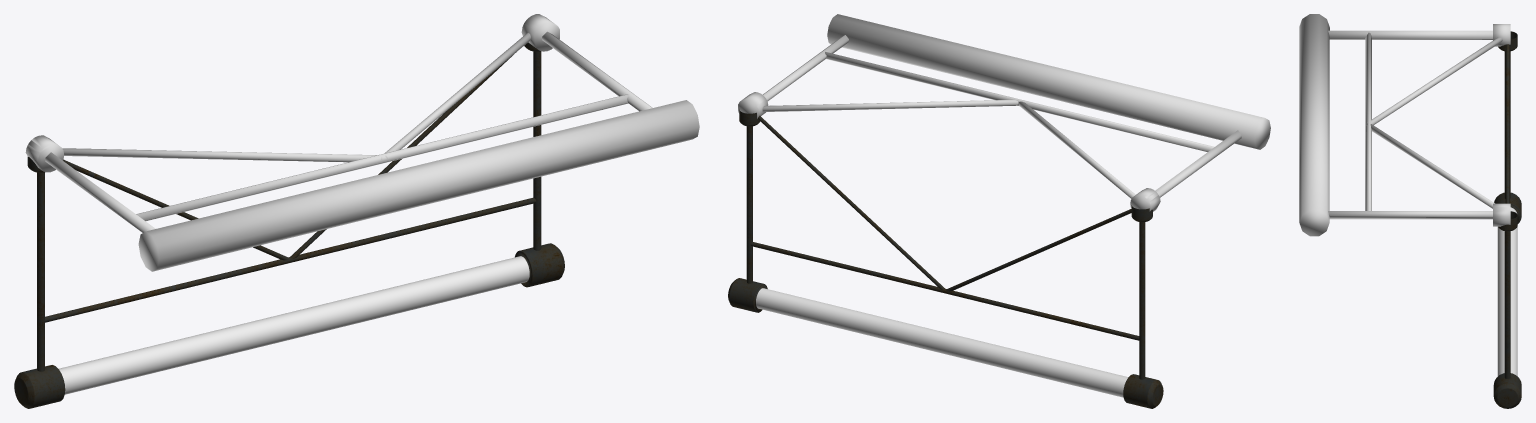
Rendered from SM_NeonBar_Warehouse.fbx.
3 renders of one model, left to right at view 1: azimuth 30°, elevation 25°; view 2: azimuth 150°, elevation 25°; view 3: azimuth 270°, elevation 25°, orthographic. The views are drawn at different scales.
Visible parts, largest first — view 1: SM_NeonBar_Warehouse_ConvexHulls, SM_NeonBar_Warehouse; view 2: SM_NeonBar_Warehouse_ConvexHulls, SM_NeonBar_Warehouse; view 3: SM_NeonBar_Warehouse_ConvexHulls, SM_NeonBar_Warehouse.
Part boxes in pixels (x1=…): SM_NeonBar_Warehouse_ConvexHulls: x1=25, y1=14, x2=699, y2=271; SM_NeonBar_Warehouse: x1=14, y1=42, x2=564, y2=408; SM_NeonBar_Warehouse_ConvexHulls: x1=738, y1=14, x2=1270, y2=211; SM_NeonBar_Warehouse: x1=728, y1=109, x2=1163, y2=408; SM_NeonBar_Warehouse_ConvexHulls: x1=1299, y1=14, x2=1510, y2=236; SM_NeonBar_Warehouse: x1=1493, y1=31, x2=1521, y2=408.
Size of the model in its own units: 2.32 by 1.11 by 1.11.
